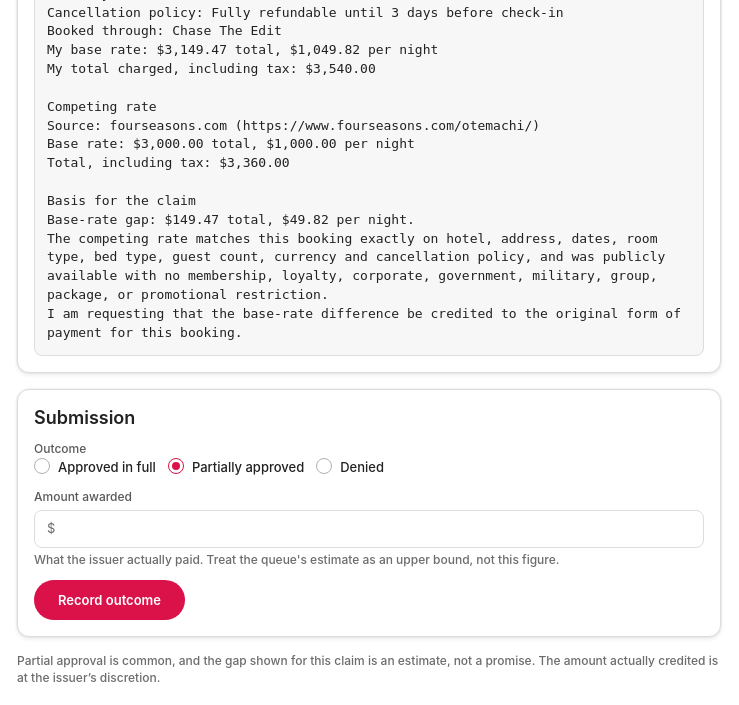
Test: <ClaimKit /> — §7.4 checklist-first order › shows the rebuttal under "Worth contesting" for an appealable code
This screenshot has width=739, height=705.
(page scrolled)
Click the radio button named "Denied" next to "Denied".
click(324, 466)  # box [316, 458, 332, 474]
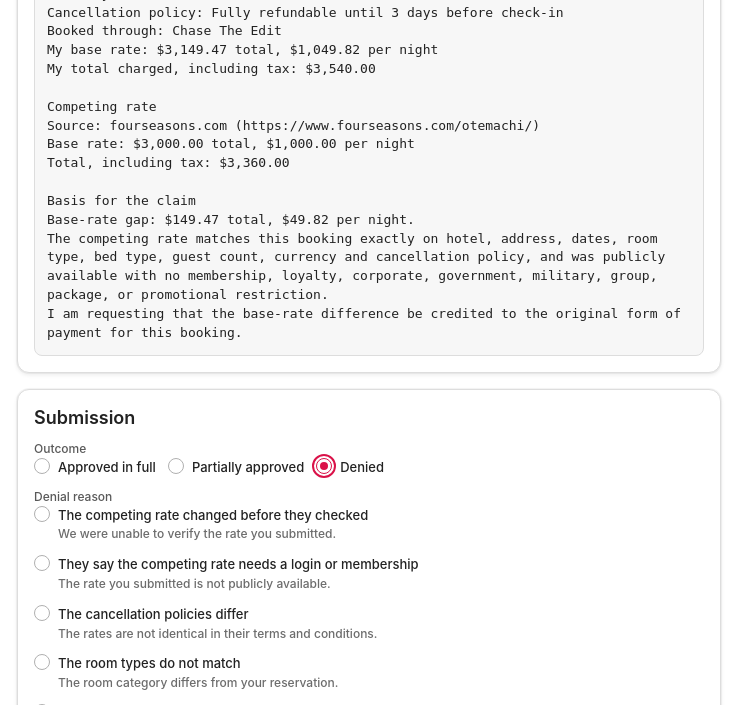
Click the 5th radio button named "They say the competing rate needs a login or membership".
click(42, 563)  # box [34, 555, 50, 571]
(page scrolled)
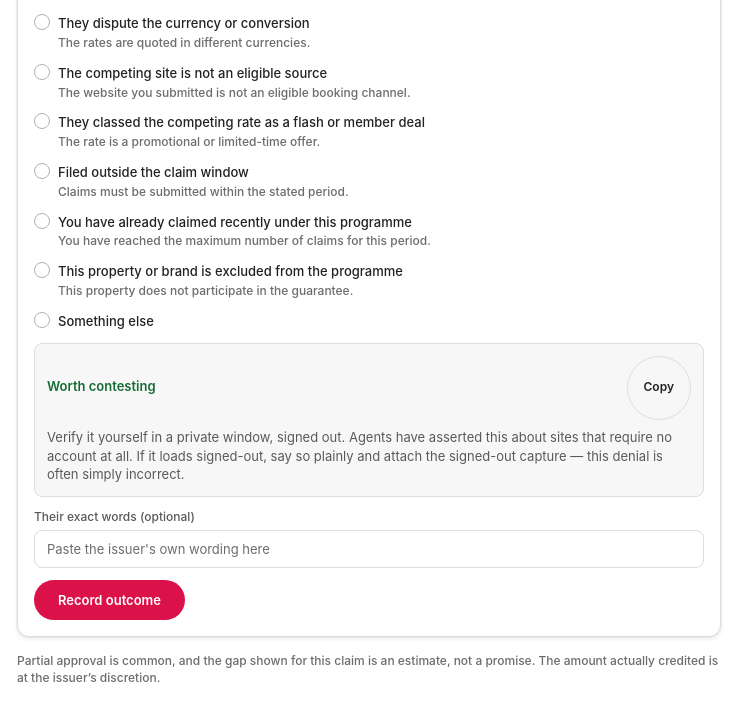
Check: the text "Worth contesting" is shown, box [47, 377, 156, 396]
Check: the text "Verify it yourself in a private window" is shown, box [47, 429, 672, 482]
Check: the number of buttons "Copy" is 2
